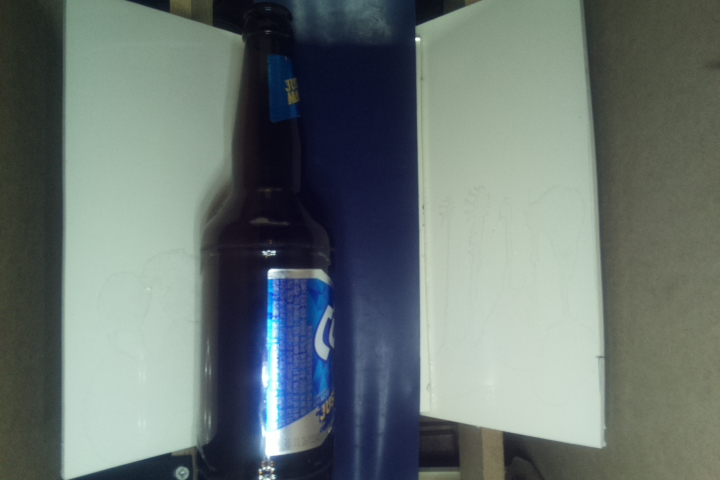makju: (198, 6, 353, 480)
